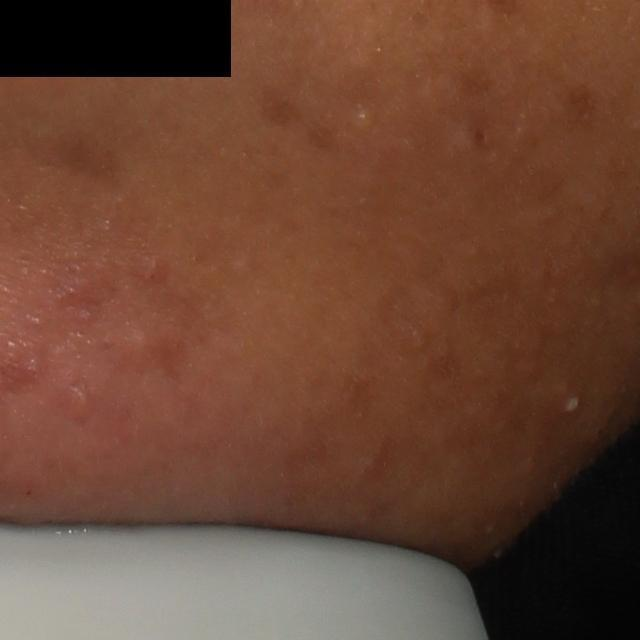comedo: (355, 101, 375, 130)
pustule: (547, 378, 589, 420)
